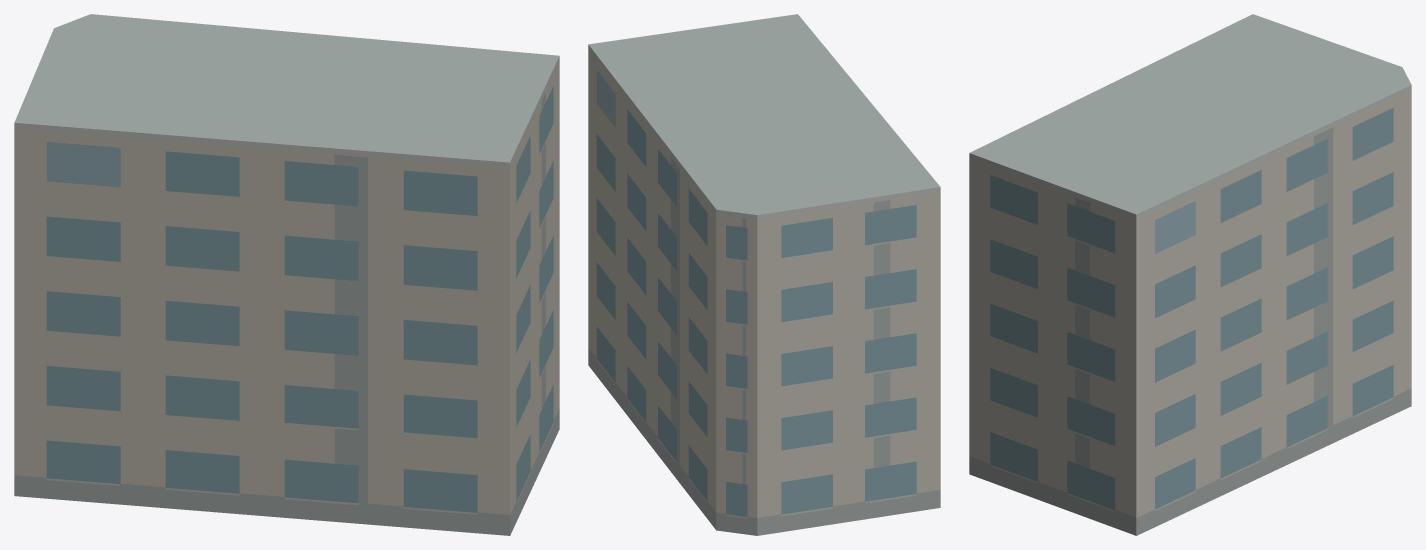
File: survey-upis-32568478.glb
3 renders of one model, left to right at view 1: azimuth 30°, elevation 25°; view 2: azimuth 150°, elevation 25°; view 3: azimuth 270°, elevation 25°, orthographic. The views are drawn at different scales.
Parts seen in each view (by area): view 1: survey-upis-32568478.tmp; view 2: survey-upis-32568478.tmp; view 3: survey-upis-32568478.tmp.
Boxes of the visible parts, bbox=[...] form: survey-upis-32568478.tmp: bbox=[14, 14, 559, 535]; survey-upis-32568478.tmp: bbox=[588, 14, 940, 535]; survey-upis-32568478.tmp: bbox=[969, 14, 1411, 535].
Bounding box in the file's own units: 19.42 × 14.5 × 18.1.
